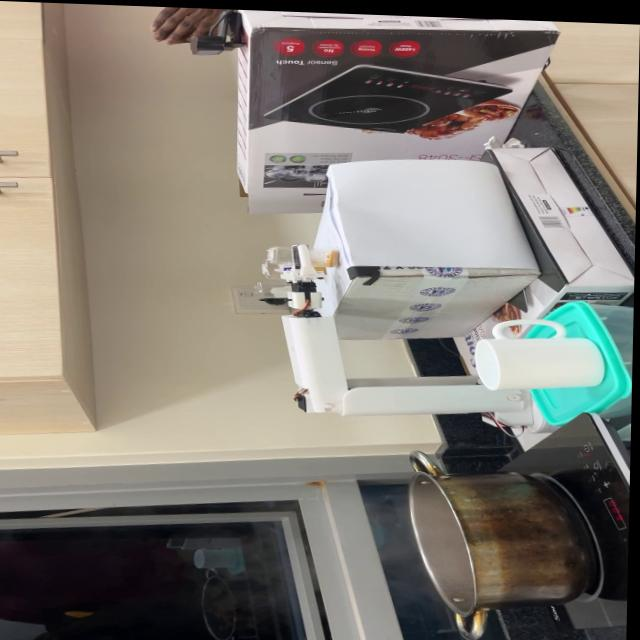cooking_pot: (404, 446, 600, 640)
garlic_powder: (322, 246, 344, 267)
